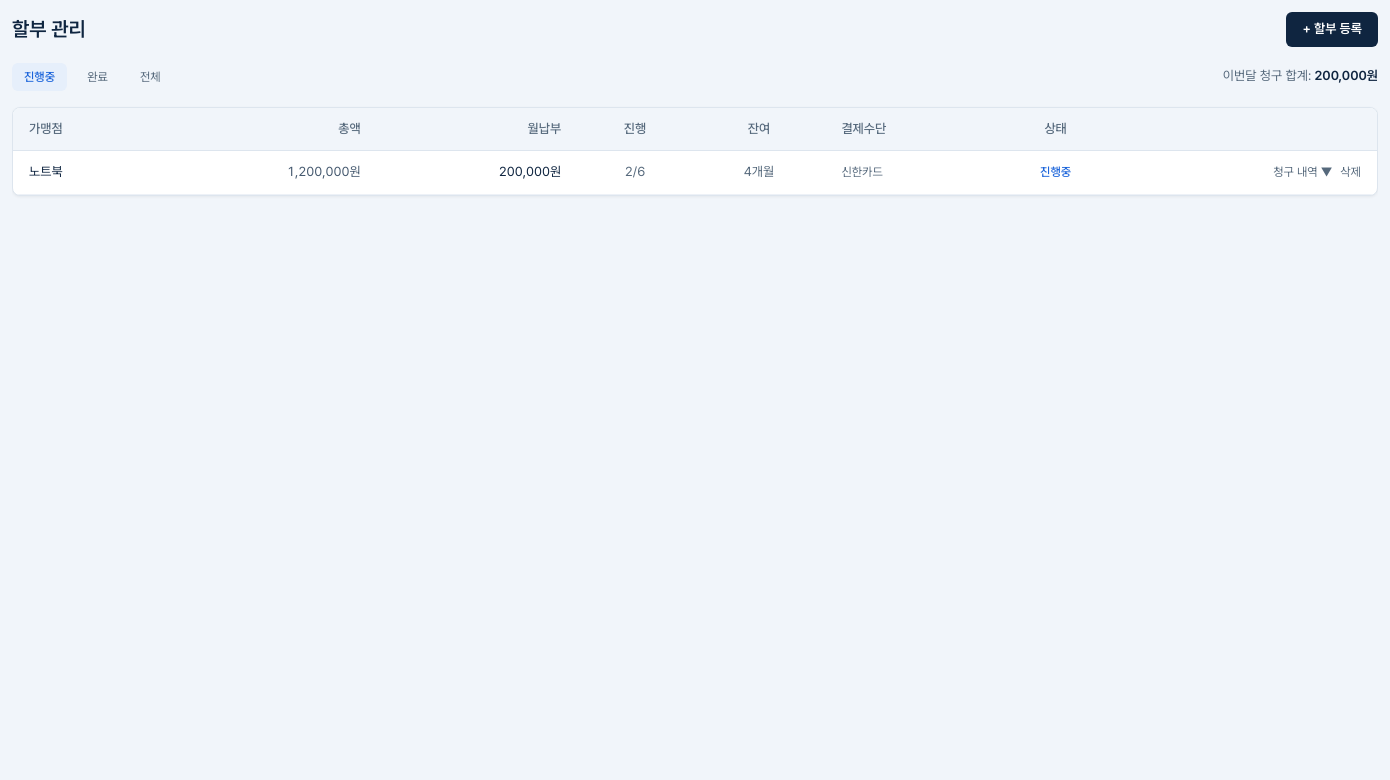
Test: 등록 폼 열고 닫기 › 구매일 기본값은 오늘이다
The width and height of the screenshot is (1390, 780).
Step 1. Click the button "+ 할부 등록" → [1332, 29], box [1286,12,1378,47]
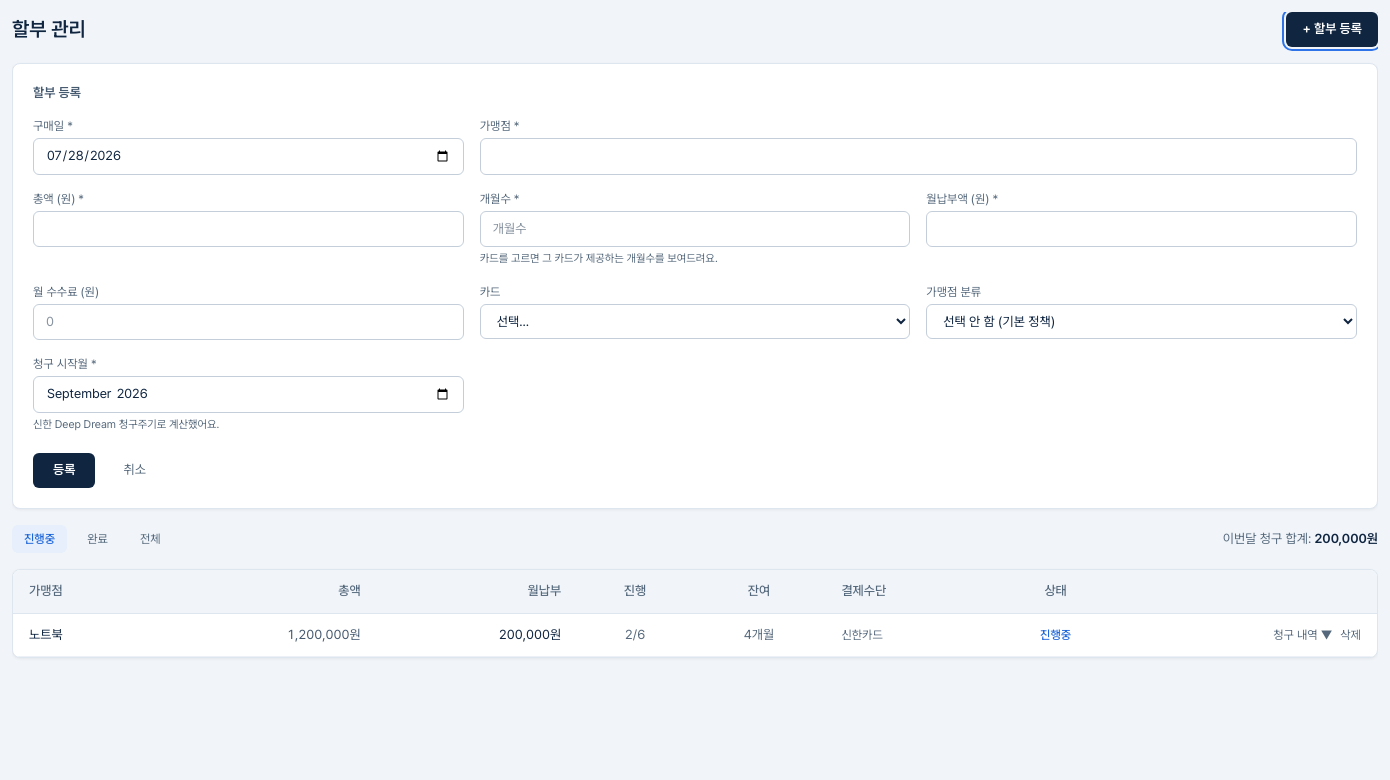
Expected: the date field labelled "구매일 *" holds "2026-07-28", [33,138,464,175]
